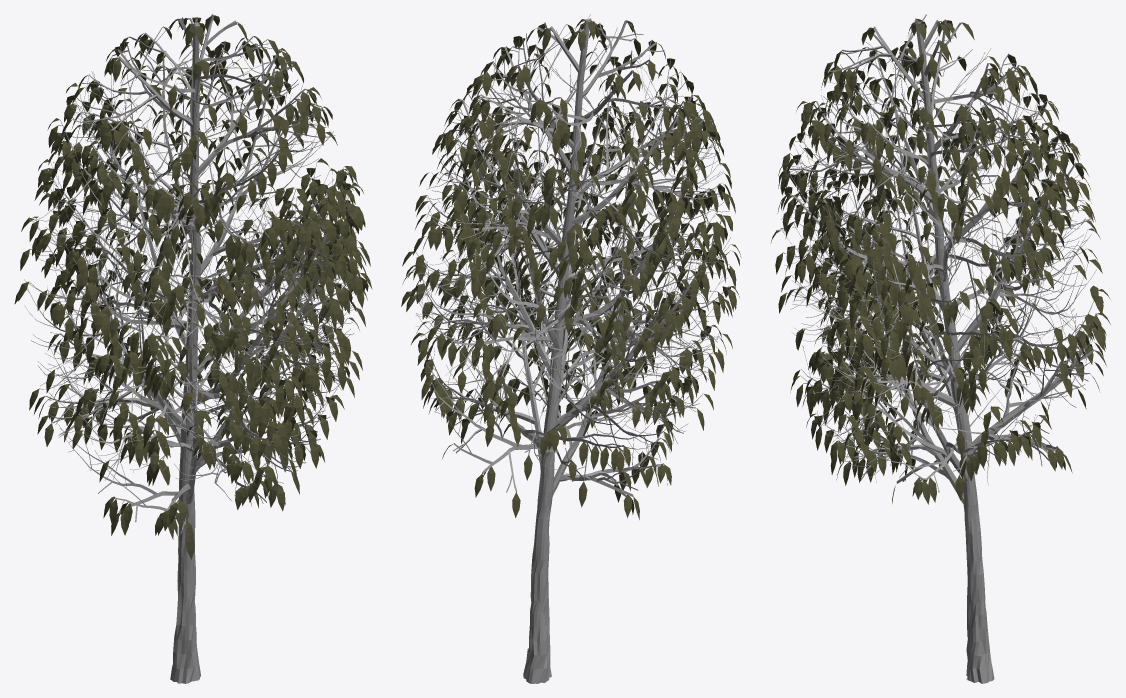
The model's file is tree2.obj.
The picture shows the model from 3 angles, left to right: view 1: azimuth 30°, elevation 25°; view 2: azimuth 150°, elevation 25°; view 3: azimuth 270°, elevation 25°; orthographic projection. The views are drawn at different scales.
Visible parts, largest first — view 1: Material__35; view 2: Material__35; view 3: Material__35.
Boxes of the visible parts, left/top/right/bottom form: Material__35: left=14, top=14, right=372, bottom=683; Material__35: left=401, top=14, right=741, bottom=683; Material__35: left=770, top=14, right=1110, bottom=683.
Size of the model in its own units: 646 by 1375 by 656.
